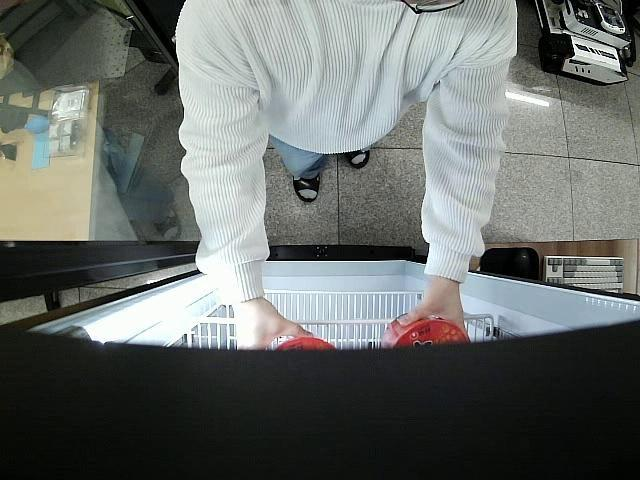01_ShinRamen_L: (382, 312, 471, 346), (273, 336, 338, 356)
